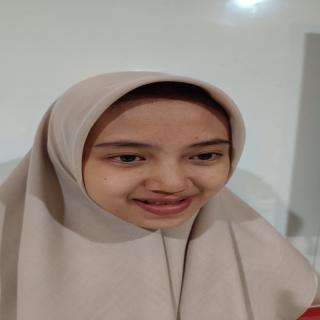Senang: (68, 88, 251, 233)
